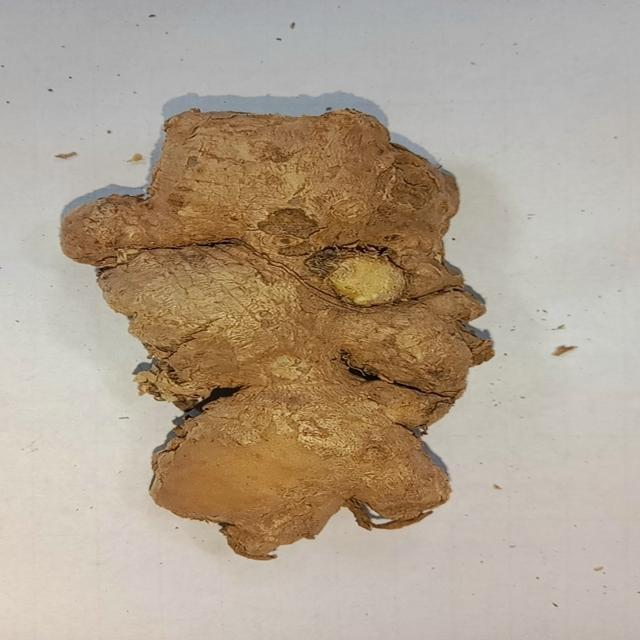ginger: (55, 114, 500, 564)
